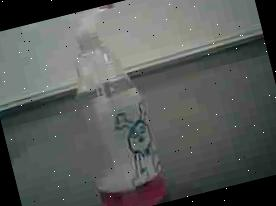hazard: (41, 0, 184, 206)
